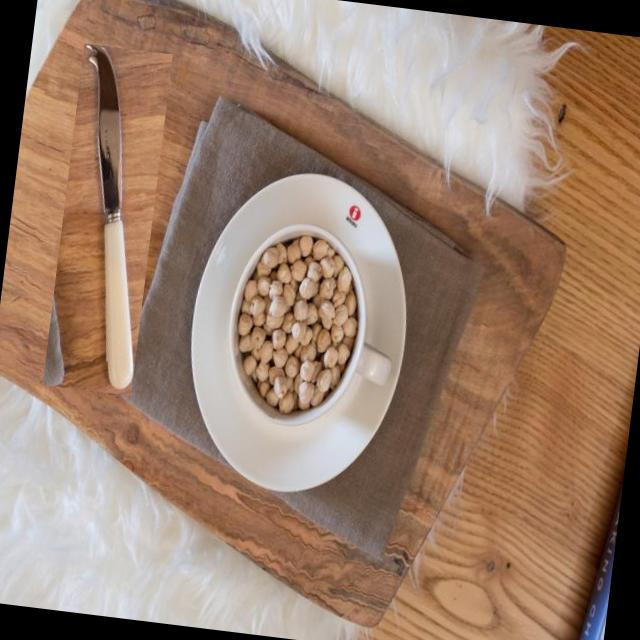Knife: (85, 45, 133, 394)
